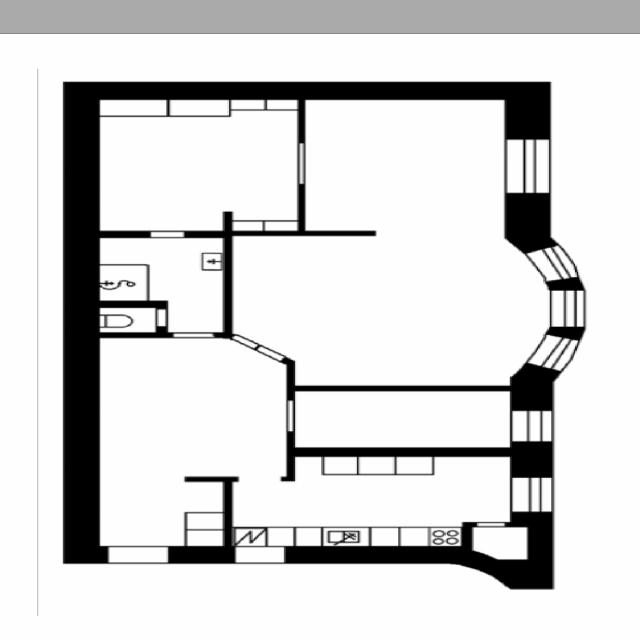door: (229, 354, 290, 388), (206, 338, 266, 370), (172, 333, 214, 361), (298, 163, 341, 184), (150, 230, 186, 254), (143, 116, 179, 140), (298, 143, 341, 163), (193, 116, 226, 138), (287, 400, 325, 417), (262, 116, 292, 136), (234, 116, 263, 136), (287, 417, 325, 432)
